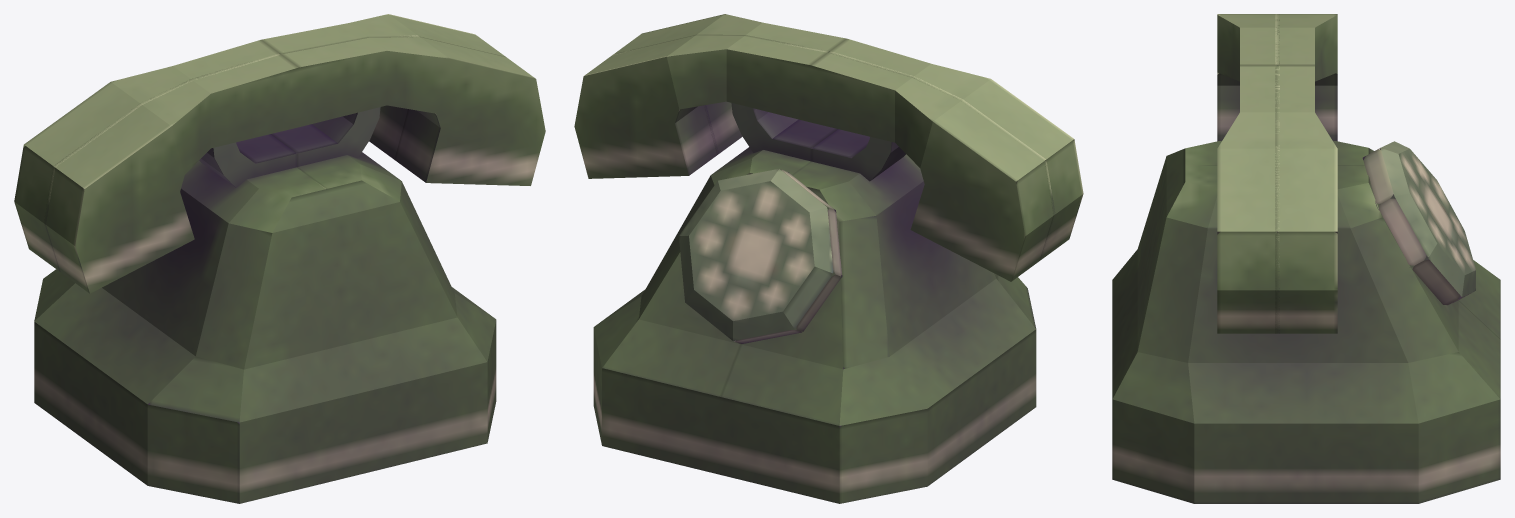
The model's file is telly.obj.
The picture shows the model from 3 angles, left to right: view 1: azimuth 30°, elevation 25°; view 2: azimuth 150°, elevation 25°; view 3: azimuth 270°, elevation 25°; orthographic projection. The views are drawn at different scales.
Parts seen in each view (by area): view 1: Telephone; view 2: Telephone; view 3: Telephone.
Part boxes in pixels (left/top/right/bottom): Telephone: left=14, top=14, right=545, bottom=503; Telephone: left=574, top=14, right=1083, bottom=503; Telephone: left=1112, top=14, right=1500, bottom=503.
Bounding box in the file's own units: 0.4611 × 0.3361 × 0.3334.
Materials: 1 (1 with a texture image).
